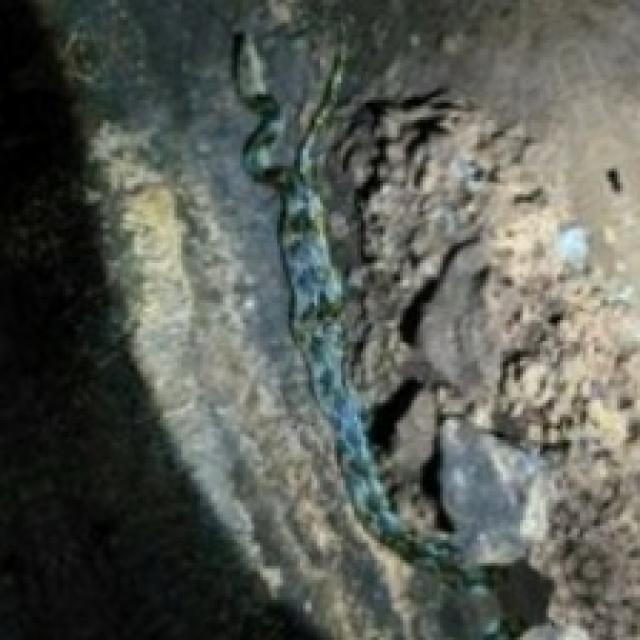reticulated python: (235, 34, 511, 619)
